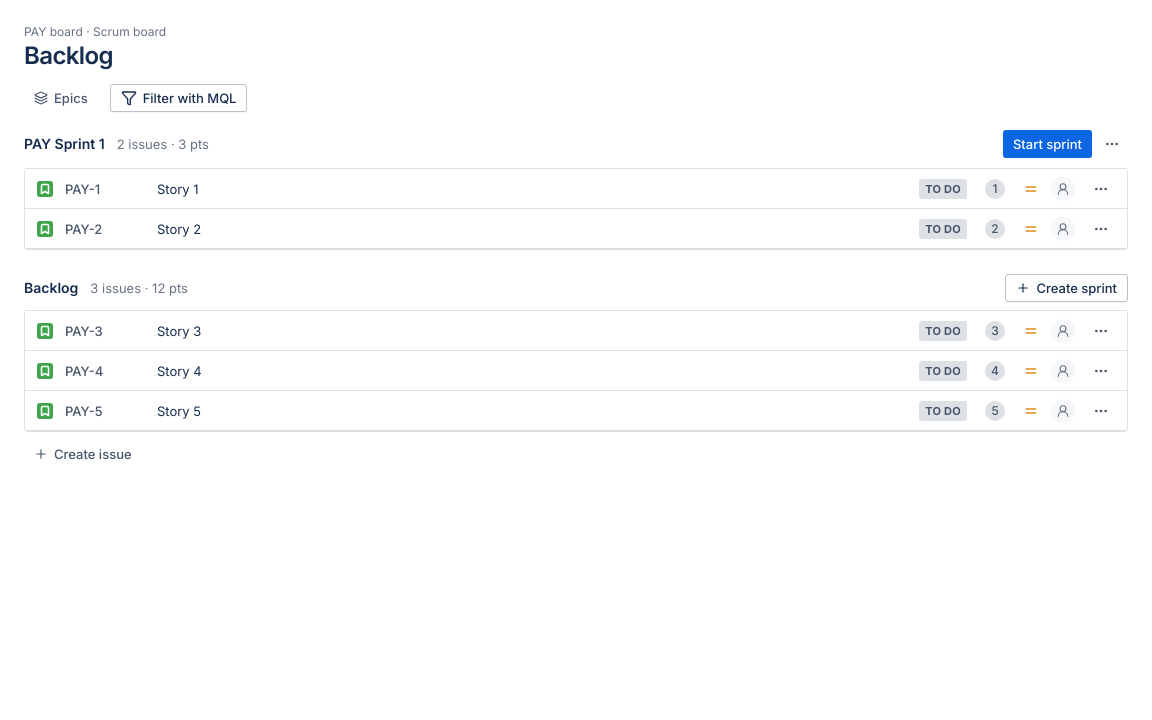
Test case: backlog page › puts a refused move back and says why
Step 1. Click the button named "Move PAY-4" → (1101, 370), box x1=1087 y1=356 x2=1115 y2=384
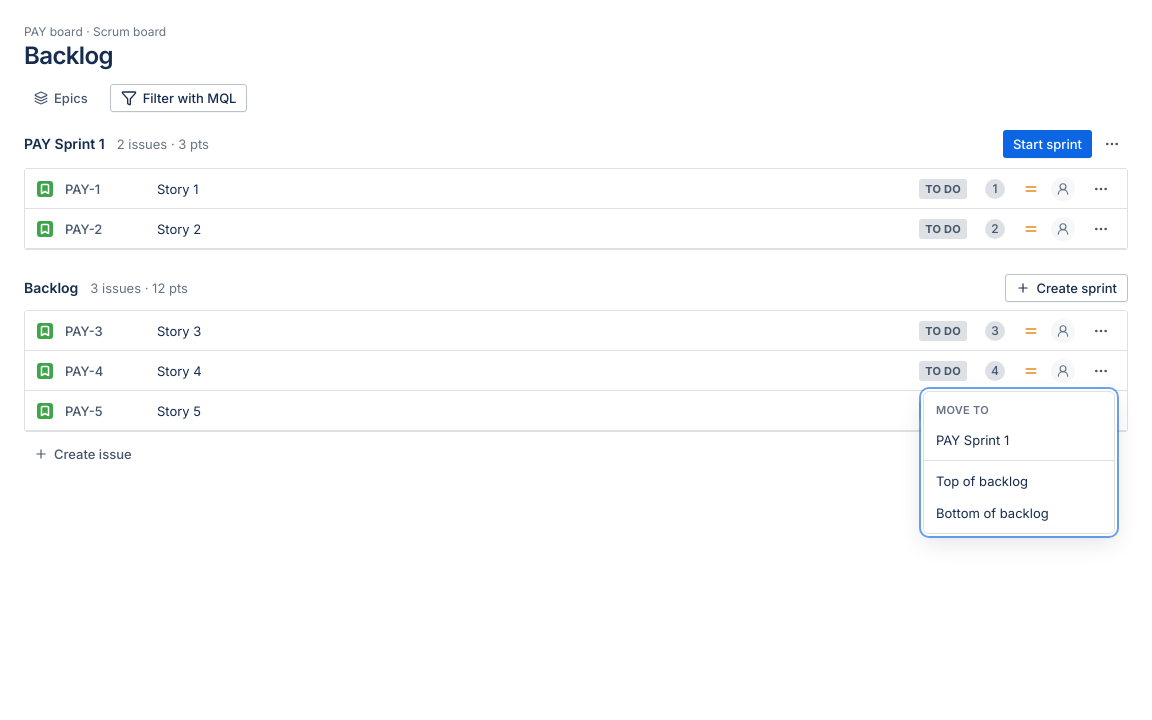
Step 2. Click the menu item "PAY Sprint 1" → (973, 440), box x1=936 y1=432 x2=1009 y2=448
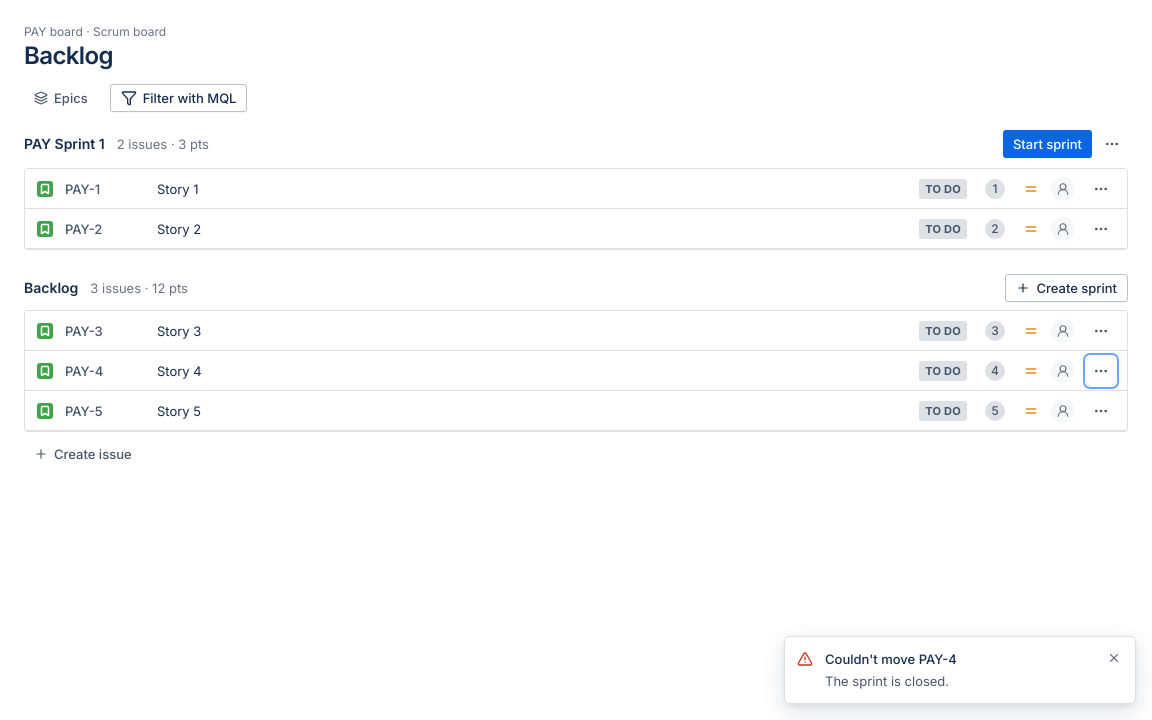
expect the text "The sprint is closed." is shown: met, box x1=825 y1=673 x2=949 y2=689
